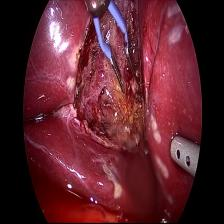Bipolar: (82, 2, 145, 102)
Irrigator: (159, 128, 202, 184)
